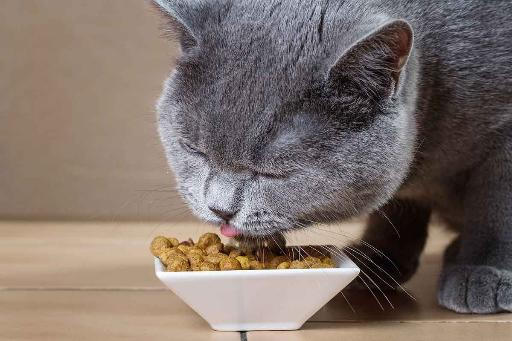cat_eating: (150, 0, 512, 331)
